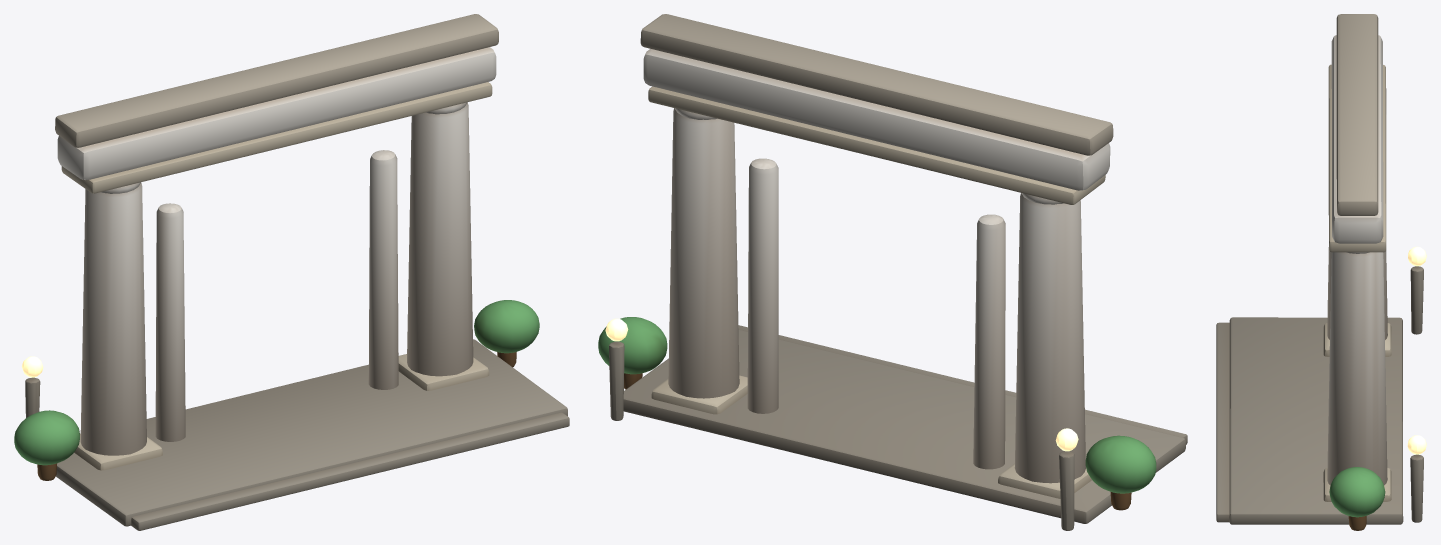
3 renders of one model, left to right at view 1: azimuth 30°, elevation 25°; view 2: azimuth 150°, elevation 25°; view 3: azimuth 270°, elevation 25°, orthographic. The views are drawn at different scales.
Visible parts, largest first — view 1: gate_aca4143c; view 2: gate_aca4143c; view 3: gate_aca4143c.
Boxes of the visible parts, x1,y1,x2,y2 form: gate_aca4143c: (14,14,569,530); gate_aca4143c: (598,14,1187,530); gate_aca4143c: (1216,14,1426,530).
Bounding box in the file's own units: 6.6 × 4.29 × 2.54.
